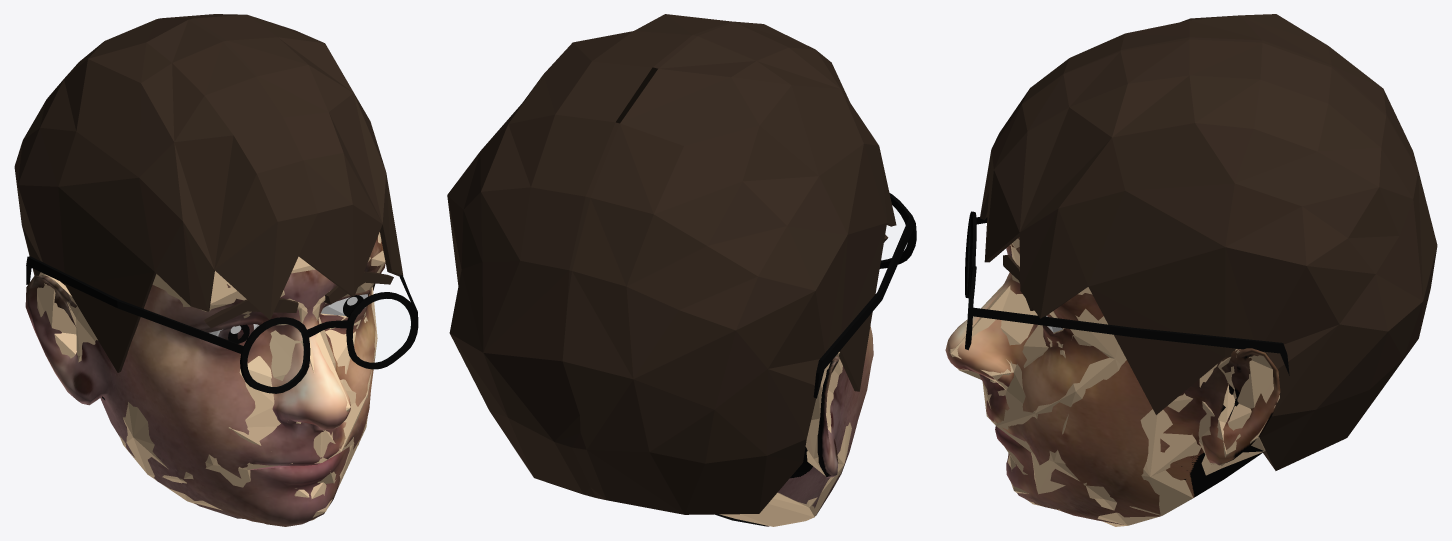
File: Avatar.glb
3 renders of one model, left to right at view 1: azimuth 30°, elevation 25°; view 2: azimuth 150°, elevation 25°; view 3: azimuth 270°, elevation 25°, orthographic. The views are drawn at different scales.
Visible parts, largest first — view 1: capelli, alta, testa, Occhiali, sopracciglia, occhi; view 2: capelli, alta, testa, Occhiali; view 3: capelli, alta, testa, Occhiali.
Part boxes in pixels (<box>): capelli: <box>14,14,403,372</box>; alta: <box>25,237,385,526</box>; testa: <box>37,232,385,520</box>; Occhiali: <box>26,256,418,393</box>; sopracciglia: <box>204,271,393,328</box>; occhi: <box>228,295,363,343</box>; capelli: <box>447,14,896,514</box>; alta: <box>715,326,873,526</box>; testa: <box>719,352,851,526</box>; Occhiali: <box>813,193,916,398</box>; capelli: <box>980,14,1437,470</box>; alta: <box>945,237,1280,524</box>; testa: <box>949,238,1279,526</box>; Occhiali: <box>965,211,1289,375</box>.
Size of the model in its own units: 1.44 by 1.95 by 1.83.
Materials: 8 (2 with a texture image).
